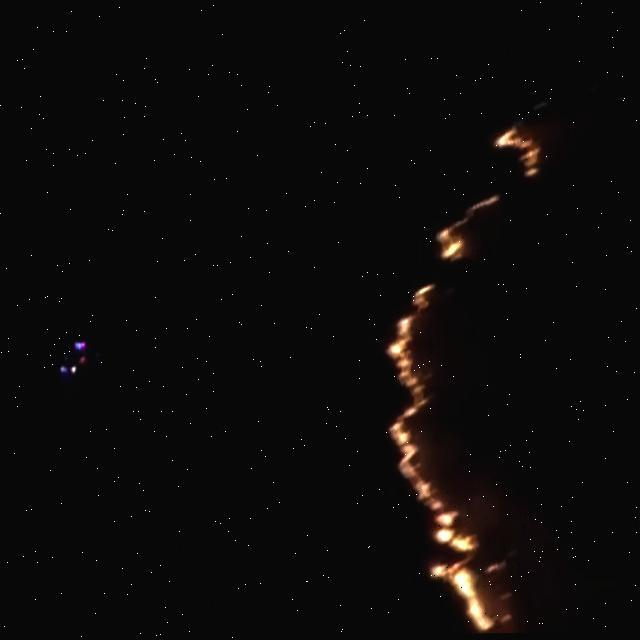Fire: (360, 274, 474, 556), (429, 200, 499, 262), (494, 130, 538, 181)
